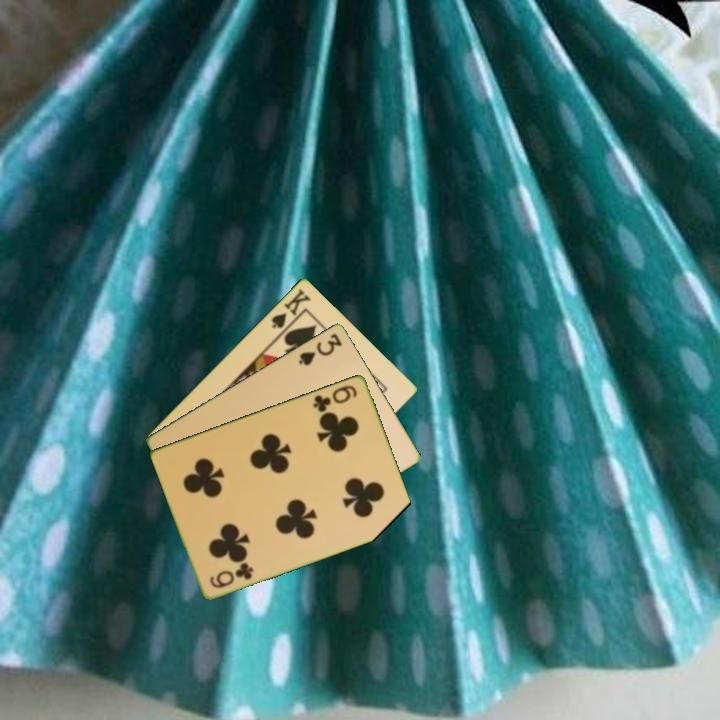3s: (295, 329, 345, 368)
6c: (309, 381, 360, 415), (206, 559, 257, 591)
Ks: (268, 285, 313, 337)
